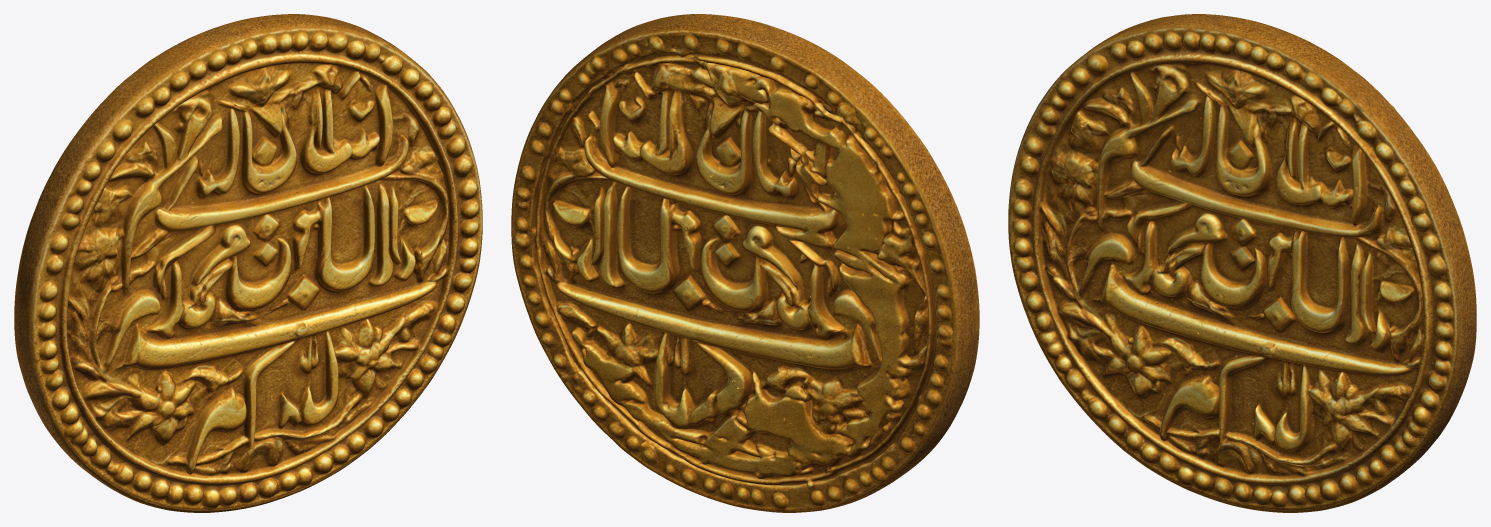
The model's file is gold-coin-preview.glb.
3 renders of one model, left to right at view 1: azimuth 30°, elevation 25°; view 2: azimuth 150°, elevation 25°; view 3: azimuth 330°, elevation 25°, orthographic.
Parts seen in each view (by area): view 1: tripo_node_86d1bc40-a77e-40b2-81c3-38351bbe5748; view 2: tripo_node_86d1bc40-a77e-40b2-81c3-38351bbe5748; view 3: tripo_node_86d1bc40-a77e-40b2-81c3-38351bbe5748.
Boxes of the visible parts, x1,y1,x2,y2 form: tripo_node_86d1bc40-a77e-40b2-81c3-38351bbe5748: (14,14,482,512); tripo_node_86d1bc40-a77e-40b2-81c3-38351bbe5748: (511,14,979,512); tripo_node_86d1bc40-a77e-40b2-81c3-38351bbe5748: (1008,14,1476,512).
Bounding box in the file's own units: 0.9981 × 1 × 0.1223.
1 material, 1 textured.
